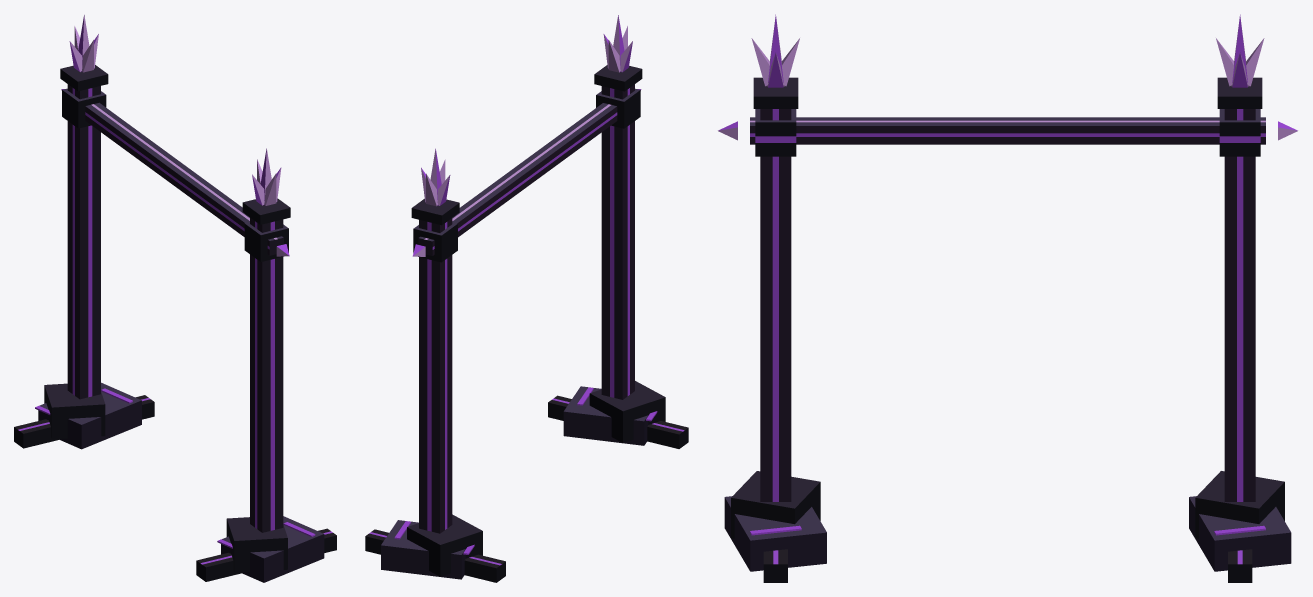
Rendered from bar_obsidian.glb.
3 views of the same model, side by side, from view 1: azimuth 30°, elevation 25°; view 2: azimuth 150°, elevation 25°; view 3: azimuth 270°, elevation 25° (orthographic). The views are drawn at different scales.
Visible parts, largest first — view 1: bar_obsidian; view 2: bar_obsidian; view 3: bar_obsidian.
Part boxes in pixels (x1,y1,x2,y2): bar_obsidian: (14,15,336,582); bar_obsidian: (365,15,688,582); bar_obsidian: (718,14,1297,582).
Bounding box in the file's own units: 1.12 × 3.39 × 3.38.
